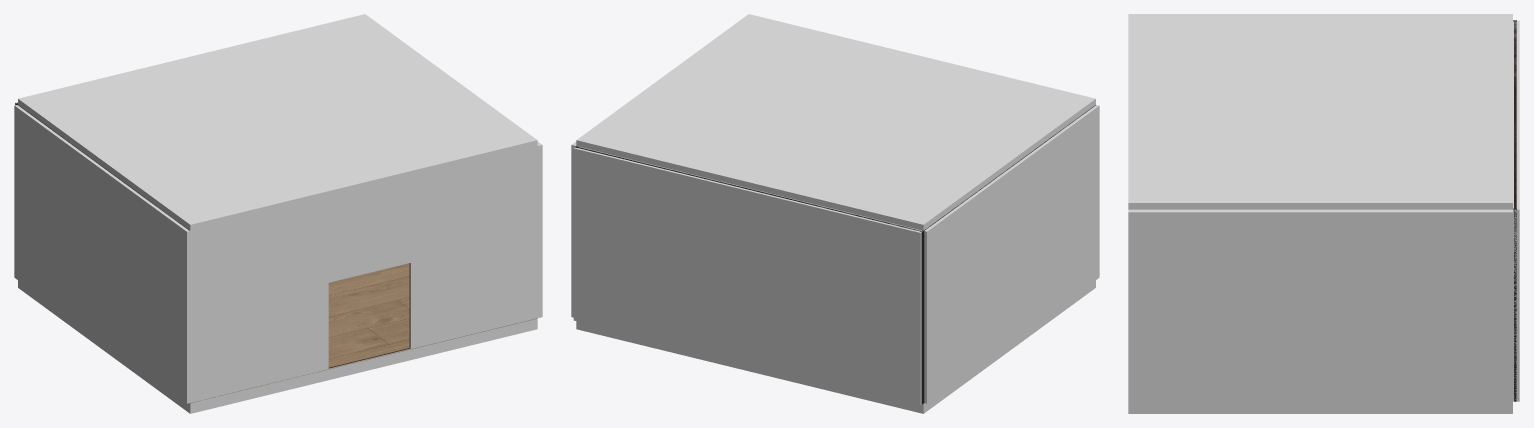
Rendered from secondflooor.fbx.
The picture shows the model from 3 angles, left to right: view 1: azimuth 30°, elevation 25°; view 2: azimuth 150°, elevation 25°; view 3: azimuth 270°, elevation 25°; orthographic projection. The views are drawn at different scales.
Visible parts, largest first — view 1: Plane, Plane.006, Plane.005; view 2: Plane, Plane.006, Plane.004; view 3: Plane, Plane.006, Plane.004.
Boxes of the visible parts, x1,y1,x2,y2 form: Plane: (14, 99, 542, 413); Plane.006: (18, 14, 537, 225); Plane.005: (190, 263, 537, 403); Plane: (571, 99, 1099, 413); Plane.006: (576, 14, 1095, 226); Plane.004: (575, 105, 1095, 404); Plane: (1128, 20, 1519, 413); Plane.006: (1128, 14, 1512, 205); Plane.004: (1513, 20, 1516, 401).
Bounding box in the file's own units: 22.52 × 11.44 × 19.22.
